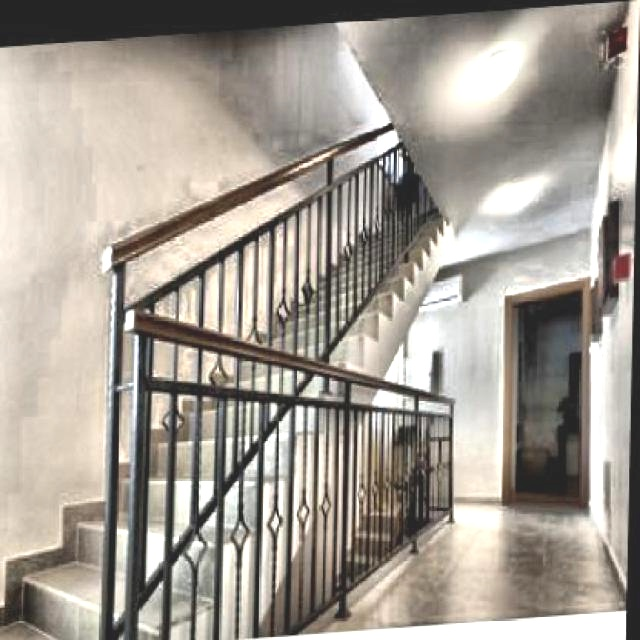stair: (2, 112, 446, 632)
